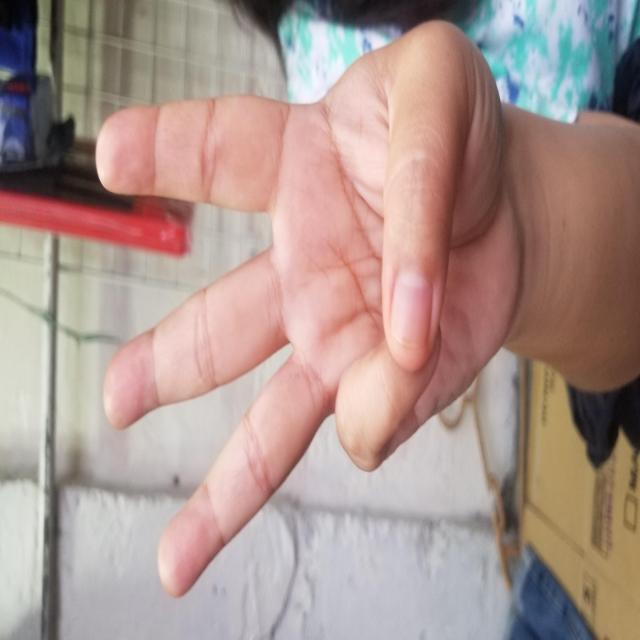W: (41, 94, 624, 520)
